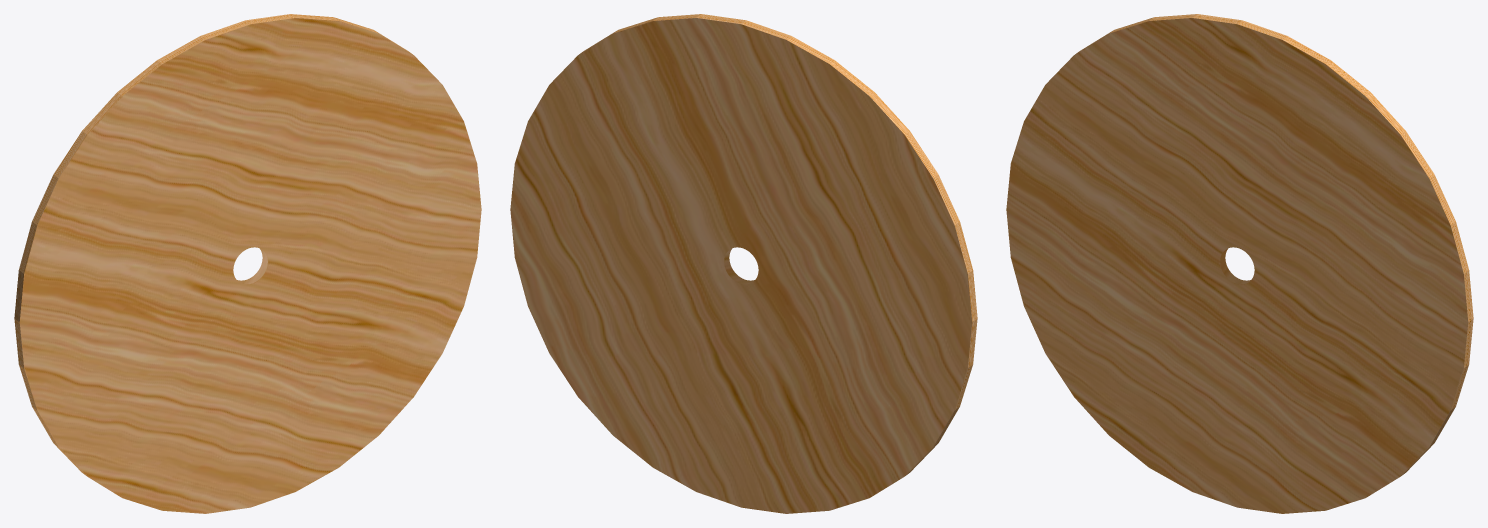
The picture shows the model from 3 angles, left to right: view 1: azimuth 30°, elevation 25°; view 2: azimuth 150°, elevation 25°; view 3: azimuth 330°, elevation 25°; orthographic projection.
Bounding box in the file's own units: 1 × 1 × 0.02.
